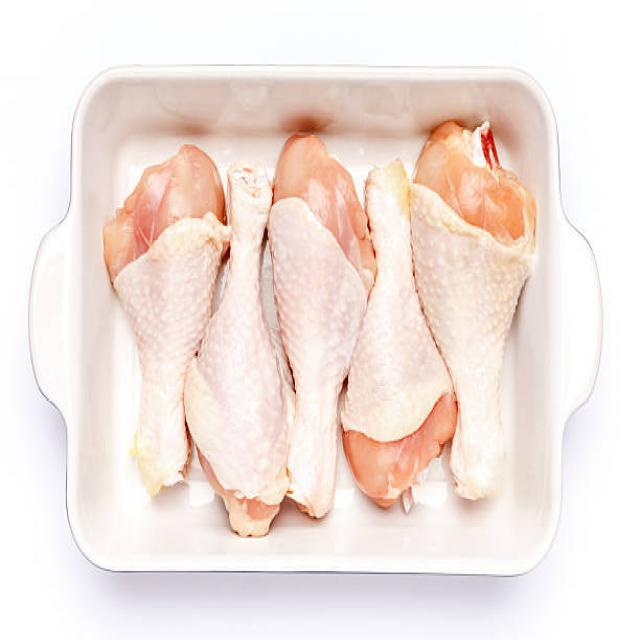Chicken: (425, 137, 537, 500), (273, 135, 362, 512), (352, 162, 448, 503), (203, 160, 289, 532), (111, 153, 203, 489)
